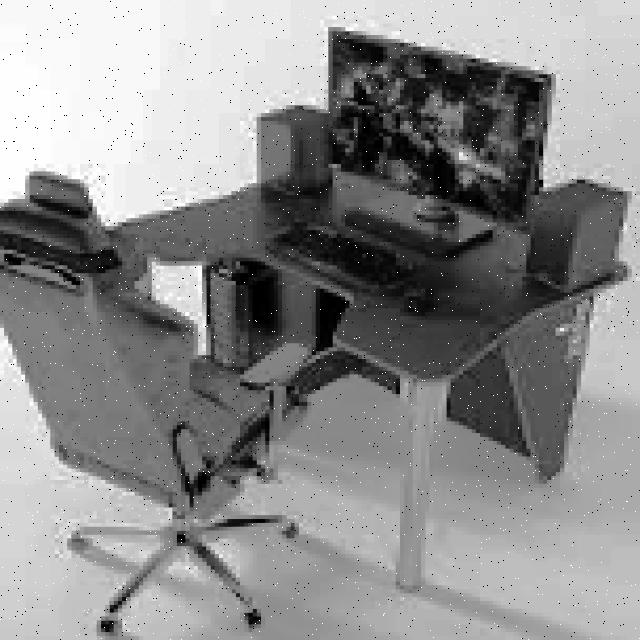book: (0, 168, 333, 636)
table: (105, 164, 628, 589)
